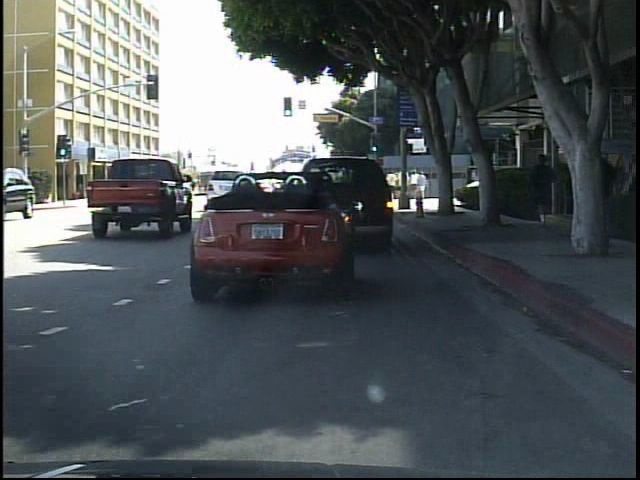person: (577, 137, 621, 255), (524, 149, 560, 230), (146, 172, 165, 202)
